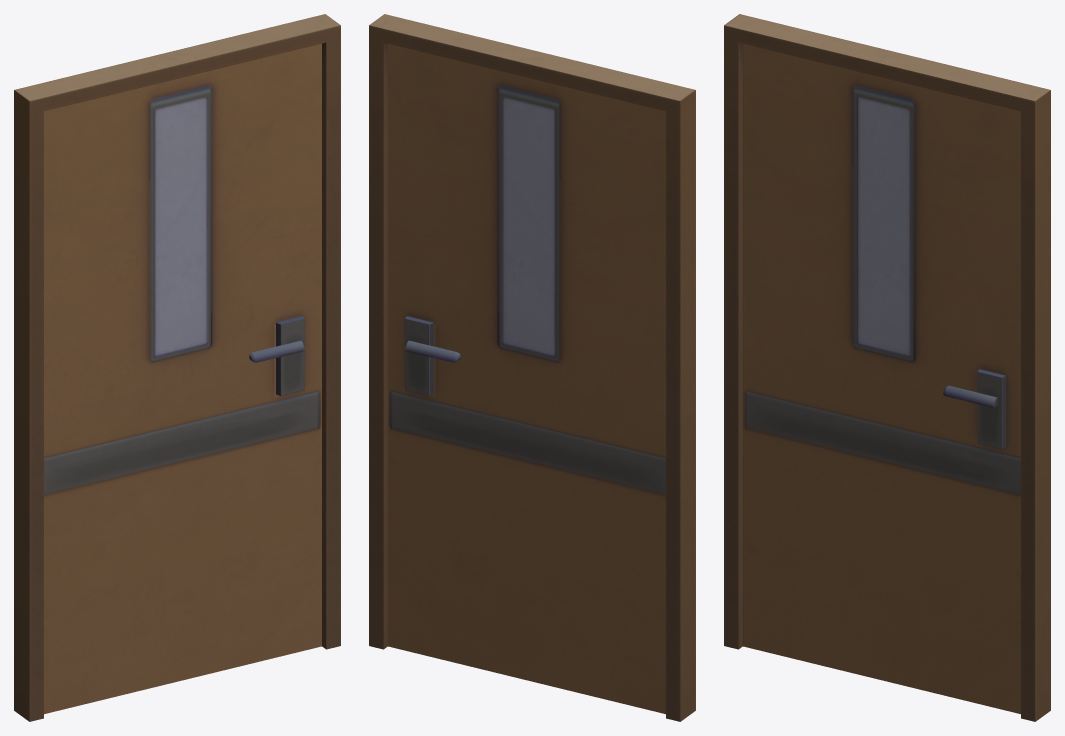
The model's file is puerta1.fbx.
3 renders of one model, left to right at view 1: azimuth 30°, elevation 25°; view 2: azimuth 150°, elevation 25°; view 3: azimuth 330°, elevation 25°, orthographic.
Parts seen in each view (by area): view 1: PUERTA1, MARCO1, MANILLA; view 2: PUERTA1, MARCO1, MANILLA; view 3: PUERTA1, MARCO1, MANILLA.
Boxes of the visible parts, left/top/right/bottom form: PUERTA1: left=44, top=43, right=321, bottom=714; MARCO1: left=14, top=14, right=340, bottom=721; MANILLA: left=249, top=340, right=304, bottom=362; PUERTA1: left=388, top=43, right=665, bottom=714; MARCO1: left=369, top=14, right=695, bottom=721; MANILLA: left=405, top=340, right=460, bottom=362; PUERTA1: left=743, top=43, right=1020, bottom=714; MARCO1: left=724, top=14, right=1050, bottom=721; MANILLA: left=943, top=385, right=997, bottom=407.
Bounding box in the file's own units: 214 × 408 × 24.93.
1 material, 1 textured.
